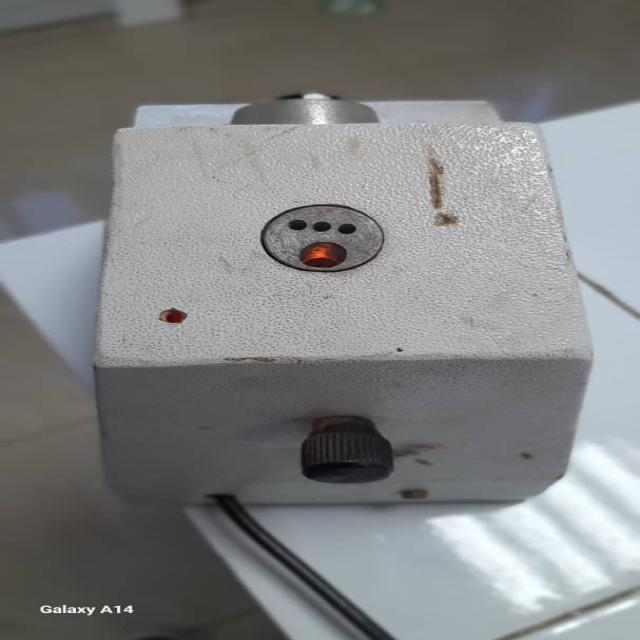Melting Point Apparatus: (85, 86, 599, 522)
